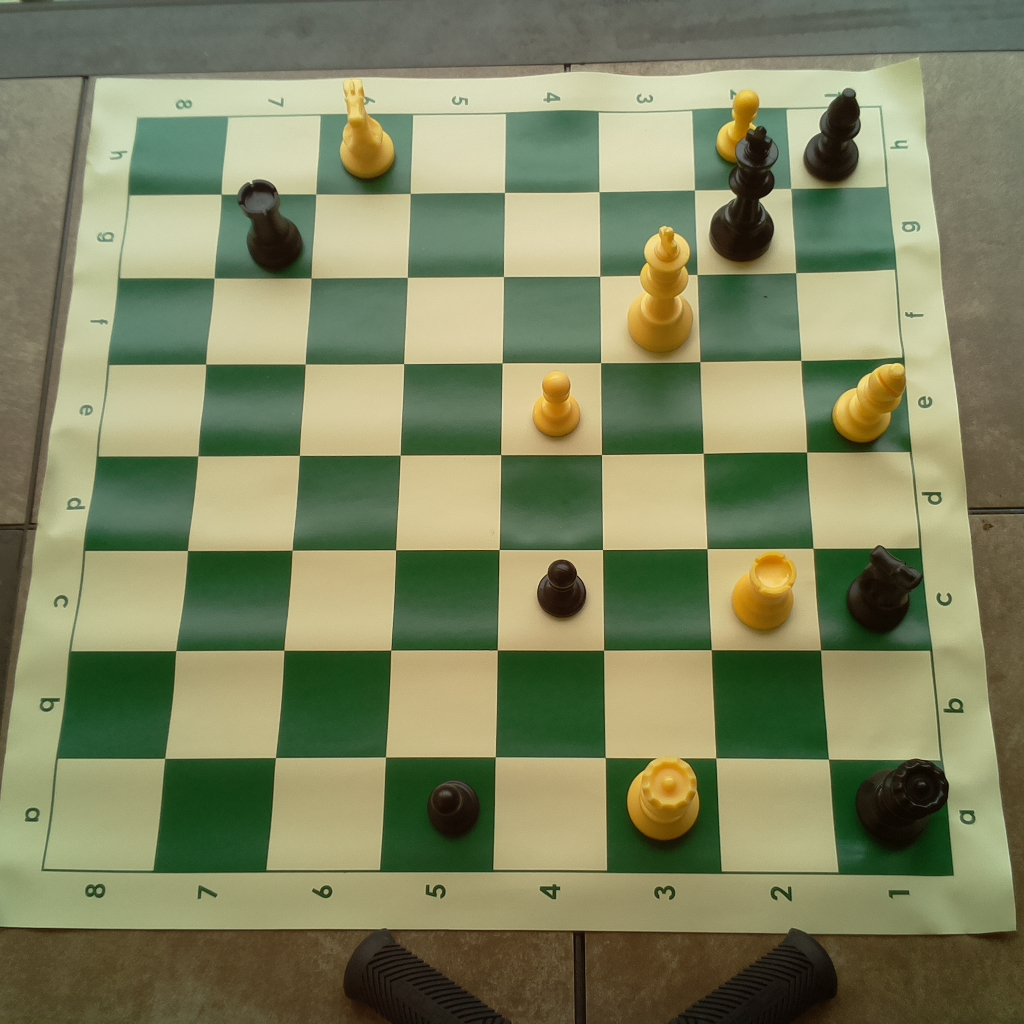black_bishop: (802, 82, 863, 183)
black_king: (708, 125, 777, 264)
black_knight: (841, 538, 931, 635)
black_pawn: (534, 554, 592, 625), (423, 774, 485, 838)
black_queen: (850, 751, 950, 854)
black_rook: (234, 177, 306, 275)
file_a: (42, 757, 954, 877)
file_b: (55, 651, 946, 760)
file_c: (67, 548, 934, 649)
file_d: (84, 451, 918, 545)
file_e: (97, 358, 912, 451)
file_f: (107, 269, 902, 358)
file_g: (120, 186, 894, 282)
file_h: (127, 106, 890, 188)
outline: (42, 105, 954, 875)
rank_1: (785, 106, 955, 875)
rank_2: (693, 110, 841, 874)
rank_3: (597, 108, 724, 874)
rank_4: (490, 113, 601, 873)
rank_5: (379, 115, 505, 875)
rank_6: (263, 115, 416, 873)
rank_7: (154, 117, 319, 873)
rank_8: (42, 115, 229, 873)
white_bishop: (828, 356, 910, 448)
white_king: (624, 223, 699, 354)
white_knight: (329, 73, 402, 182)
white_pawn: (527, 370, 583, 438), (719, 87, 762, 167)
white_queen: (621, 752, 703, 843)
white_rook: (727, 549, 799, 636)
